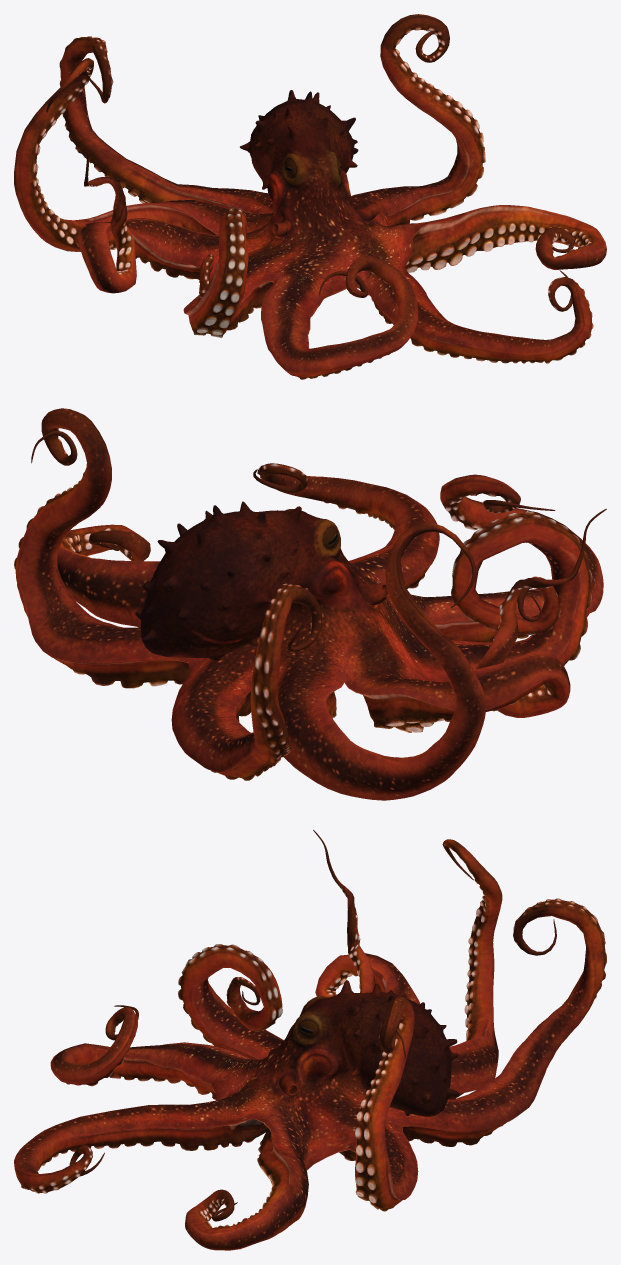
The picture shows the model from 3 angles, top to bottom: view 1: azimuth 30°, elevation 25°; view 2: azimuth 150°, elevation 25°; view 3: azimuth 270°, elevation 25°; orthographic projection. The views are drawn at different scales.
Visible parts, largest first — view 1: octopus.1_1; view 2: octopus.1_1; view 3: octopus.1_1.
Boxes of the visible parts, left/top/right/bottom form: octopus.1_1: left=14, top=14, right=606, bottom=379; octopus.1_1: left=14, top=408, right=606, bottom=800; octopus.1_1: left=14, top=829, right=606, bottom=1250.
Size of the model in its own units: 0.0778 by 0.0334 by 0.0828.
1 material, 1 textured.
